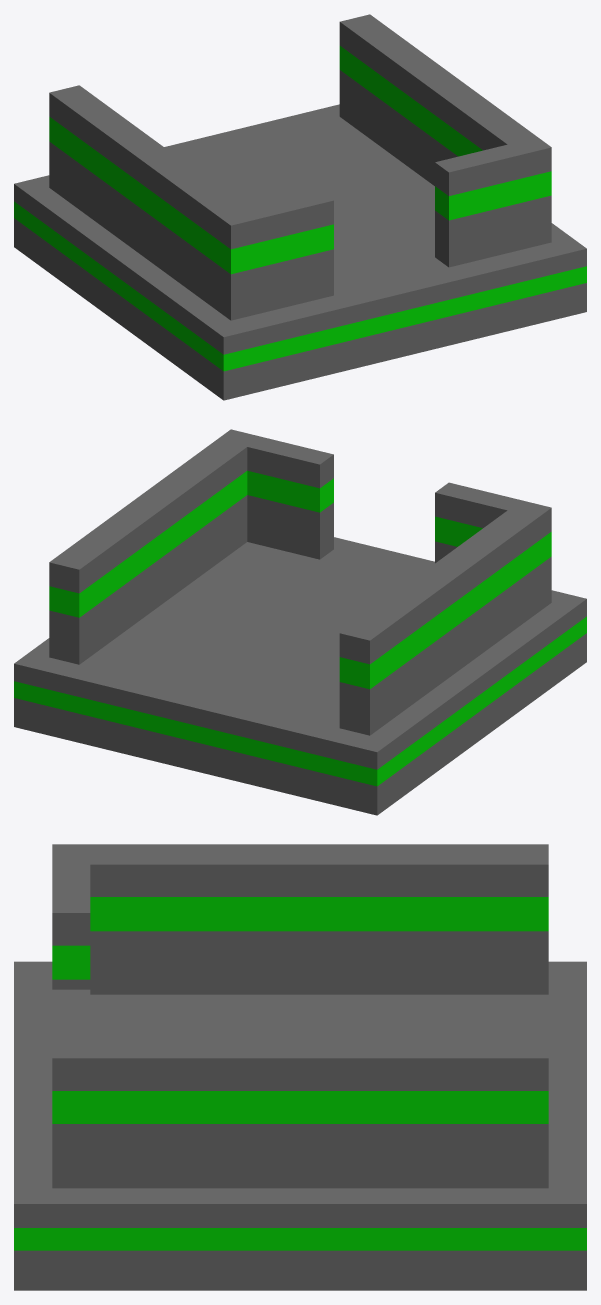
File: Sm_BigPlatform_Railed.fbx
3 views of the same model, one above another, from view 1: azimuth 30°, elevation 25°; view 2: azimuth 150°, elevation 25°; view 3: azimuth 270°, elevation 25° (orthographic). The views are drawn at different scales.
Parts seen in each view (by area): view 1: pCube1, pCube2, pasted__pCube2; view 2: pCube1, pasted__pCube2, pCube2; view 3: pCube1, pasted__pCube2, pCube2.
Part boxes in pixels (<box>): pCube1: <box>14,104,586,400</box>; pCube2: <box>49,85,333,320</box>; pasted__pCube2: <box>339,14,551,267</box>; pCube1: <box>14,537,586,815</box>; pasted__pCube2: <box>49,429,333,664</box>; pCube2: <box>339,482,551,735</box>; pCube1: <box>14,961,586,1290</box>; pasted__pCube2: <box>52,989,548,1188</box>; pCube2: <box>52,844,548,994</box>.
Bounding box in the file's own units: 300 × 126 × 300.
